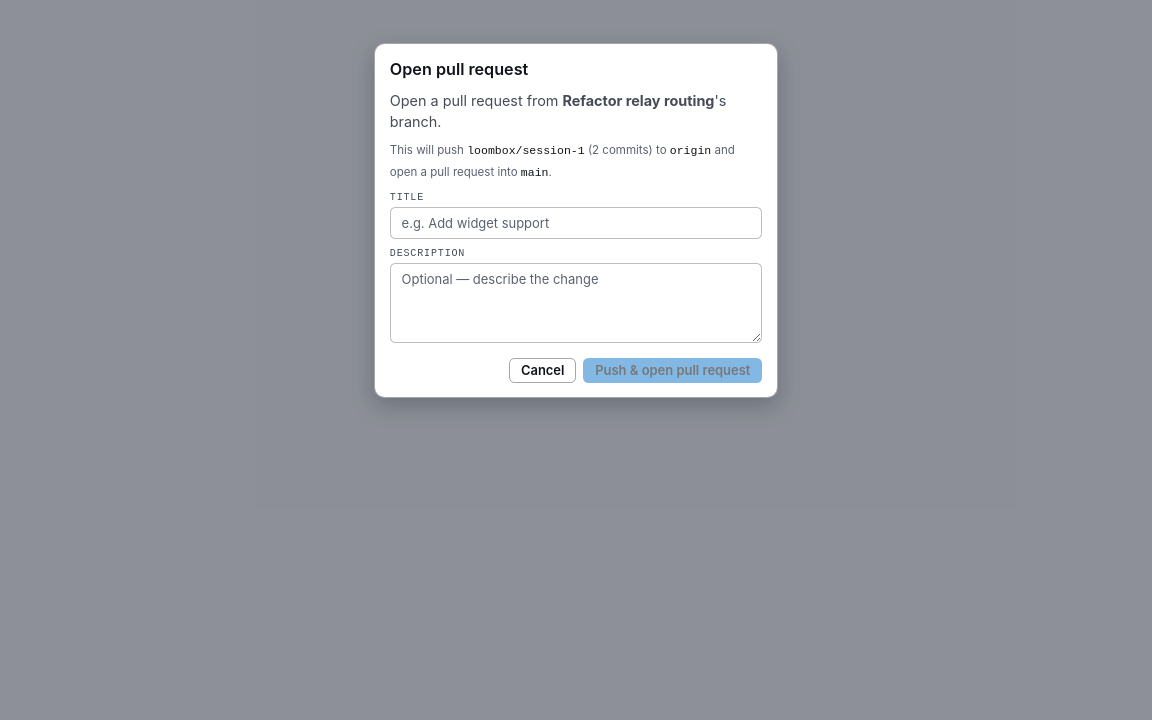
Test: PrOpenDialog (SPEC §7.14; issue #238) › clicking confirm sends the typed title/body and shows the returned URL on success
The image size is (1152, 720).
Type "Add widget" into the field with test id "pr-open-title-input" at (576, 223), box [390,207,762,239]
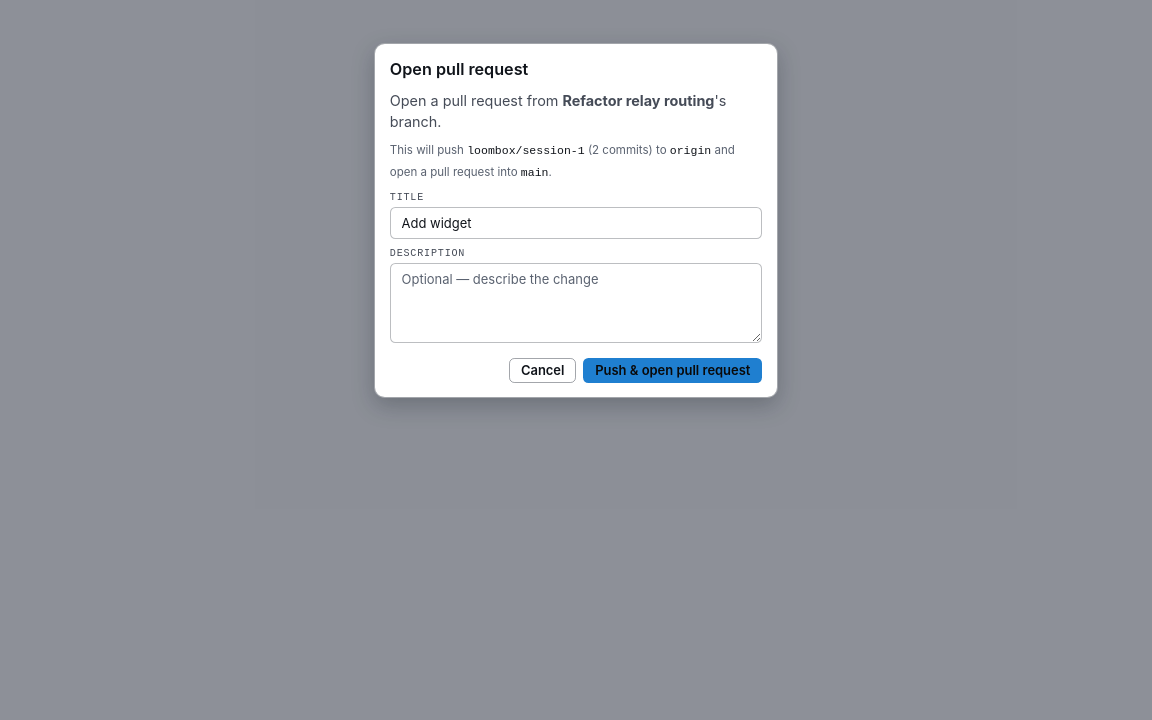
Type "Body text" into the text box with test id "pr-open-body-input" at (576, 303), box [390,263,762,343]
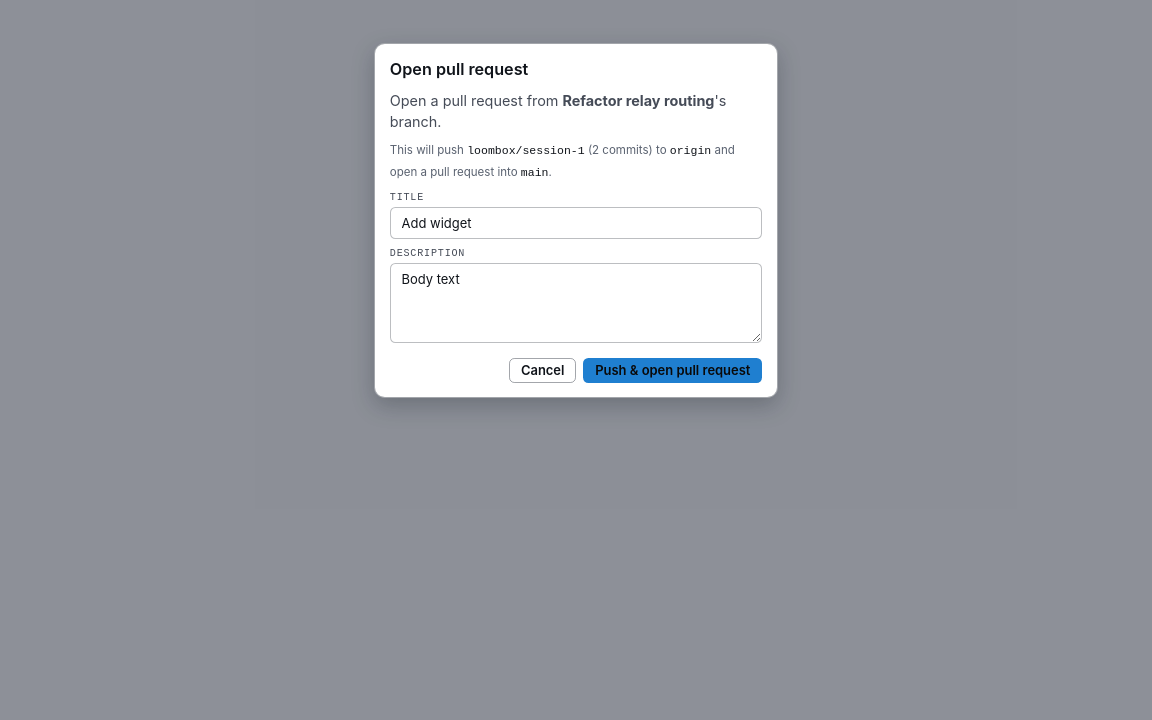
Click the button with test id "pr-open-confirm" at (673, 370), box [583,358,762,383]
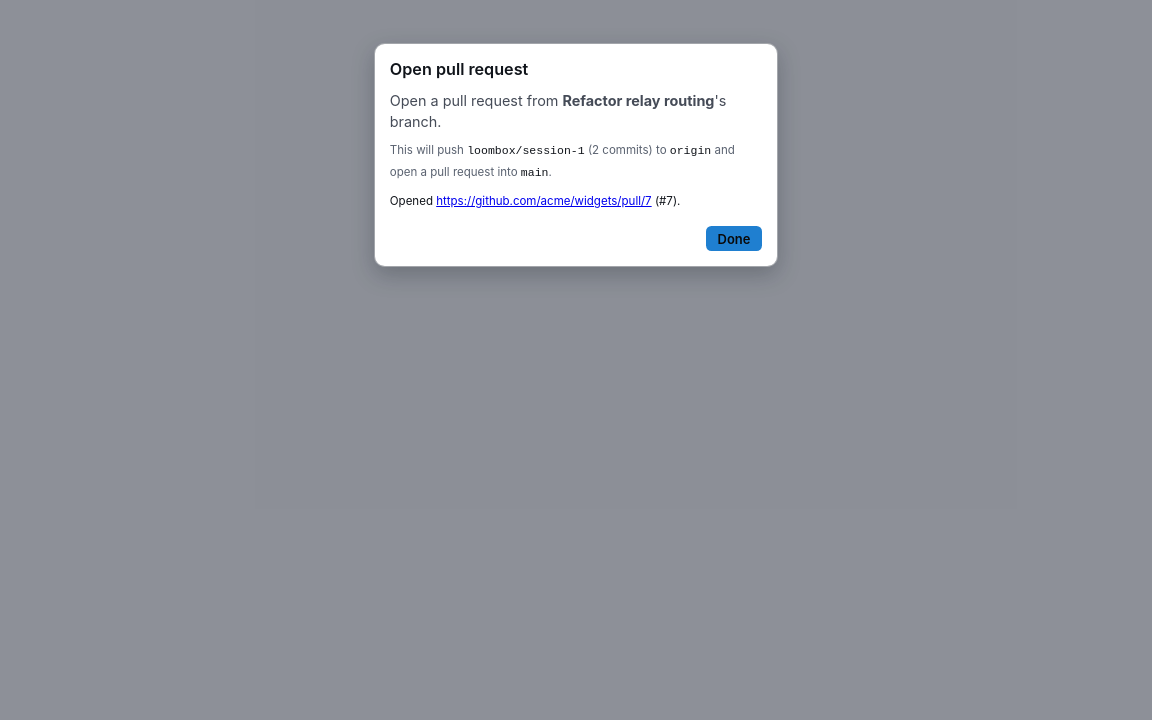
Expected: the element with test id "pr-open-result-url" shows "https://github.com/acme/widgets/pull/7", [436,194,652,208]
Expected: the element with test id "pr-open-result-url" shows "7", [436,194,652,208]
Expected: the button with test id "pr-open-confirm" is gone
